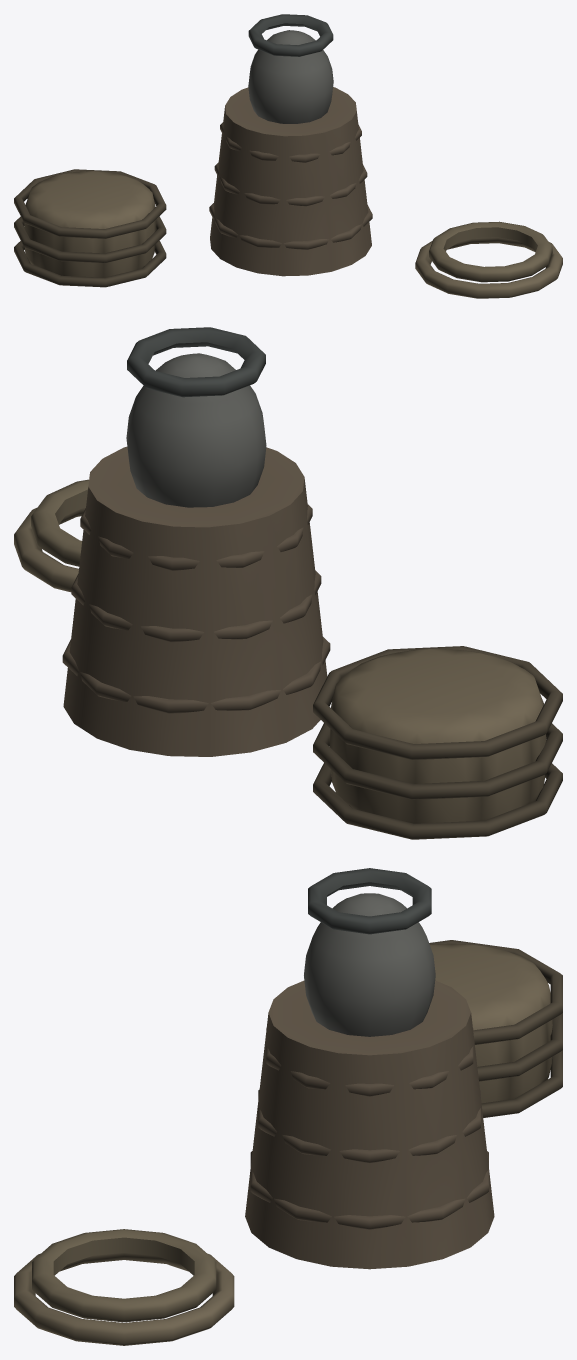
Rendered from rope_basket_a.glb.
3 renders of one model, top to bottom at view 1: azimuth 30°, elevation 25°; view 2: azimuth 150°, elevation 25°; view 3: azimuth 270°, elevation 25°, orthographic. The views are drawn at different scales.
Parts seen in each view (by area): view 1: Surface; view 2: Surface; view 3: Surface.
Boxes of the visible parts, x1=… form: Surface: x1=14, y1=14, x2=562, y2=298; Surface: x1=14, y1=327, x2=562, y2=839; Surface: x1=14, y1=868, x2=562, y2=1345.
Bounding box in the file's own units: 1.82 × 0.8691 × 1.34.
